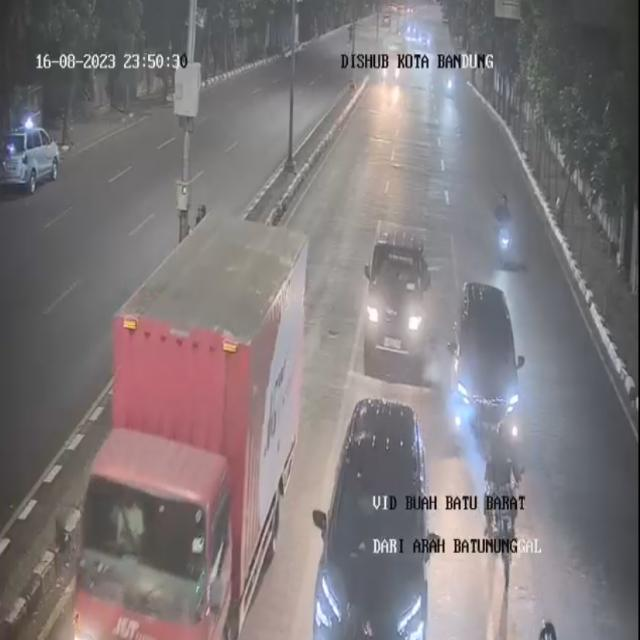cars: (312, 399, 426, 640), (455, 281, 520, 424), (366, 220, 426, 374)
motorcycle: (484, 419, 523, 586), (347, 141, 381, 193), (496, 194, 513, 267)
truck: (70, 214, 309, 640)
